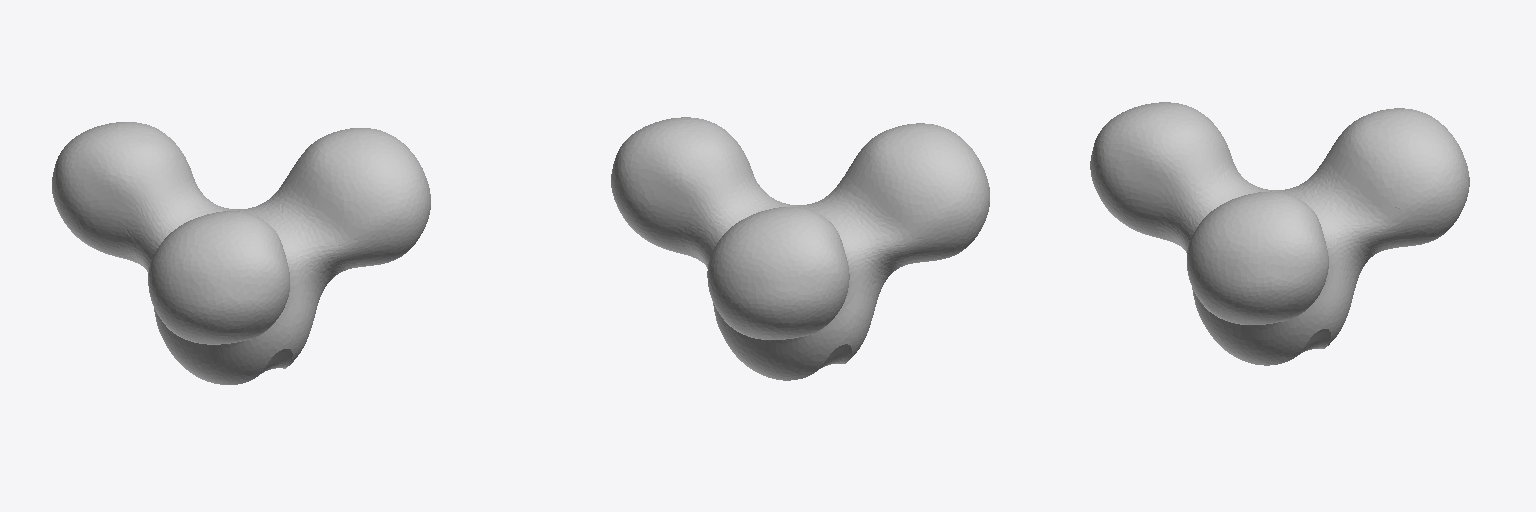
The model's file is trifood.obj.
The picture shows the model from 3 angles: view 1: azimuth 30°, elevation 25°; view 2: azimuth 150°, elevation 25°; view 3: azimuth 270°, elevation 25°; orthographic projection.
Parts seen in each view (by area): view 1: Quad_Sphere.003; view 2: Quad_Sphere.003; view 3: Quad_Sphere.003.
Boxes of the visible parts, x1=… form: Quad_Sphere.003: x1=52, y1=122, x2=430, y2=384; Quad_Sphere.003: x1=611, y1=117, x2=989, y2=380; Quad_Sphere.003: x1=1090, y1=102, x2=1469, y2=365.
Bounding box in the file's own units: 1.61 × 1.01 × 1.7.